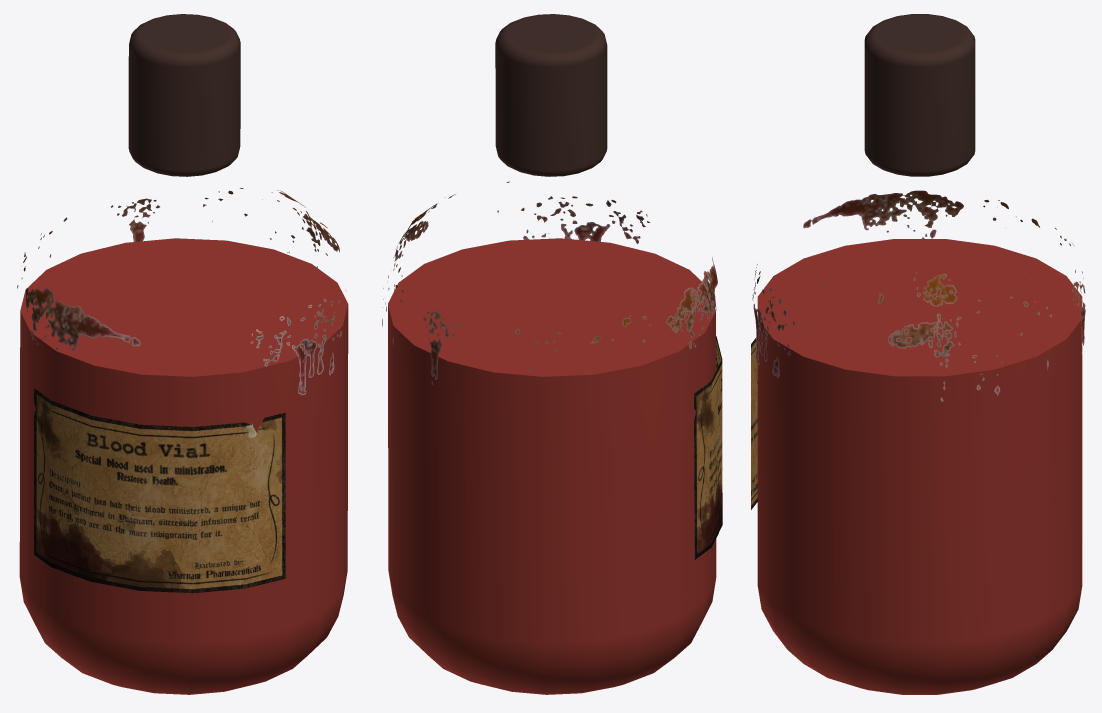
Rendered from flask.fbx.
3 renders of one model, left to right at view 1: azimuth 30°, elevation 25°; view 2: azimuth 150°, elevation 25°; view 3: azimuth 270°, elevation 25°, orthographic.
Parts seen in each view (by area): view 1: Blood, Label, Cork, Blood_Vial.001; view 2: Blood, Cork, Label, Blood_Vial.001; view 3: Blood, Cork, Blood_Vial.001, Label.
Part boxes in pixels (x1,y1,x2,y2): Blood: (19, 238, 348, 694); Label: (34, 388, 285, 593); Cork: (128, 14, 240, 176); Blood_Vial.001: (17, 188, 346, 395); Blood: (388, 238, 716, 694); Cork: (495, 14, 607, 176); Label: (694, 336, 722, 560); Blood_Vial.001: (382, 181, 717, 384); Blood: (757, 239, 1082, 694); Cork: (864, 14, 975, 176); Blood_Vial.001: (752, 190, 1085, 401); Label: (751, 338, 757, 509).
Size of the model in its own units: 9.92 by 20.05 by 9.91.
